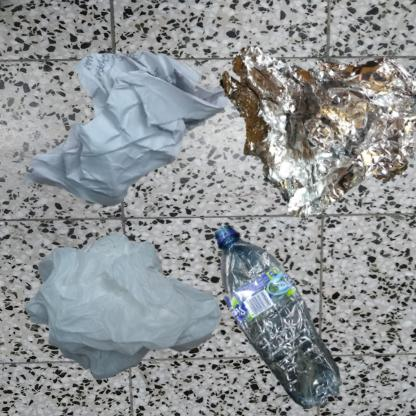aluminio: (213, 10, 416, 238)
bolsa: (10, 213, 256, 416)
botella: (213, 213, 351, 416)
papel: (10, 10, 275, 296)
